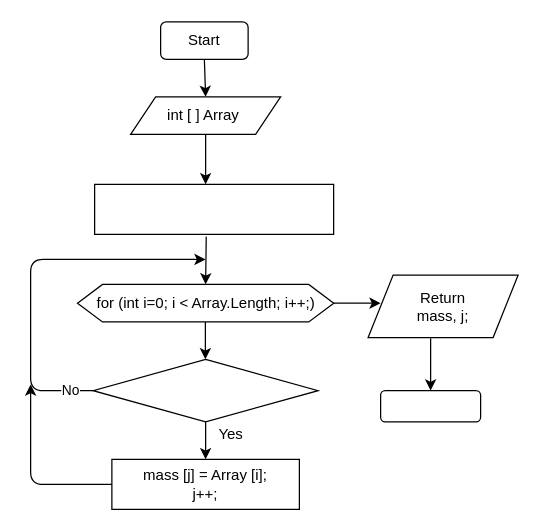
The diagram is 540 pixels wide and 531 high, and some of its shapes have lost their labels. The centre of each missing label's shape, as x and y in pixels:
END: the point at 430,405
if (Array [i] % 2 == 0): the point at 205,390
int [] mass = new int(Array.Length); int j=0;: the point at 213,208
